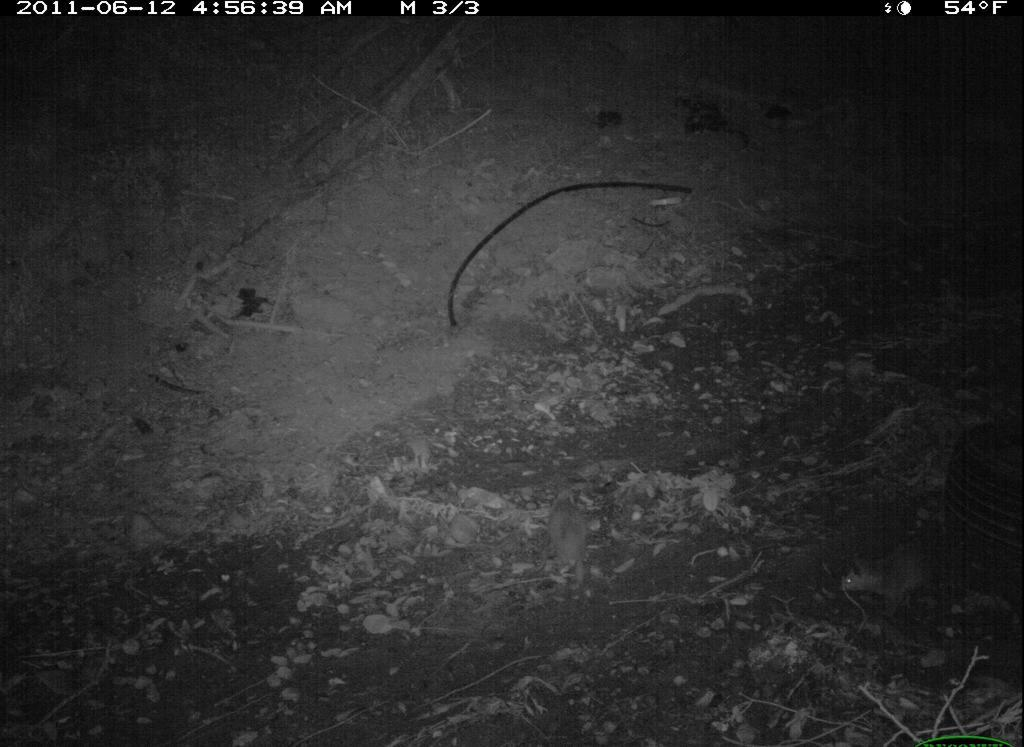opossum: (835, 528, 969, 617)
